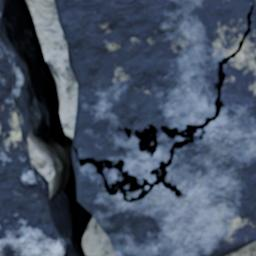brick: (73, 7, 255, 255), (55, 0, 251, 182), (0, 40, 64, 255), (0, 0, 1, 17)
crack: (0, 0, 255, 255)
